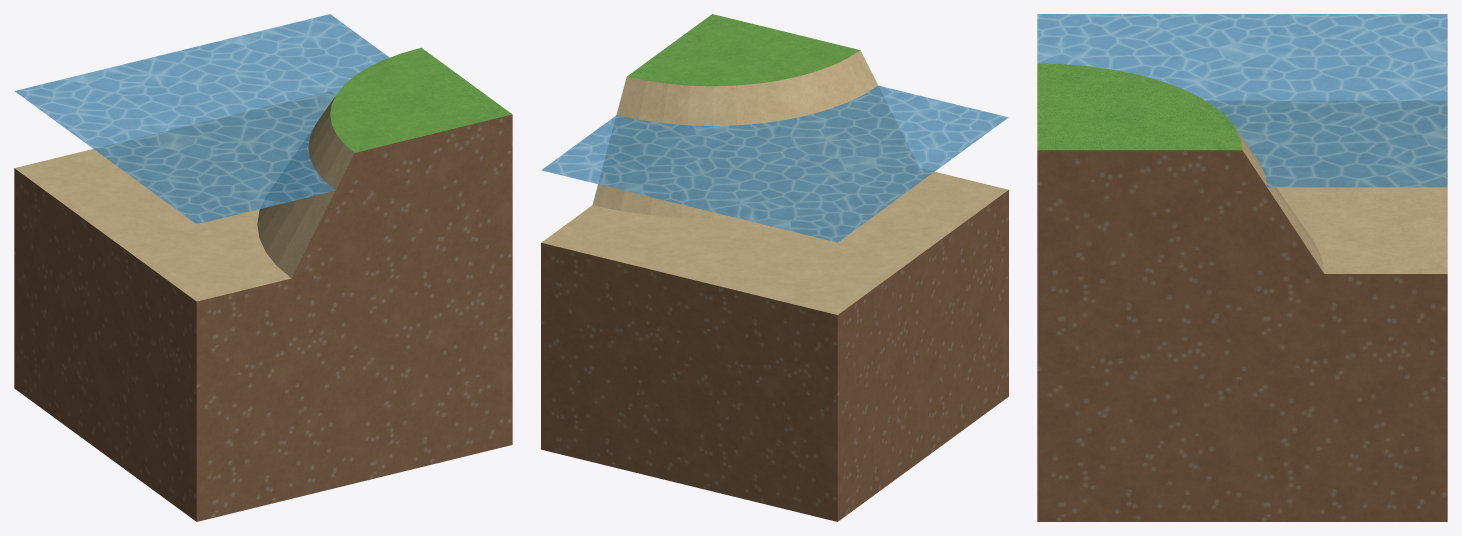
File: Water_InnerCorner_F.fbx
3 views of the same model, side by side, from view 1: azimuth 30°, elevation 25°; view 2: azimuth 150°, elevation 25°; view 3: azimuth 270°, elevation 25° (orthographic). The views are drawn at different scales.
Visible parts, largest first — view 1: Water_InnerCorner_F, Water_InnerCorner_F_Water; view 2: Water_InnerCorner_F, Water_InnerCorner_F_Water; view 3: Water_InnerCorner_F, Water_InnerCorner_F_Water.
Part boxes in pixels (x1,y1,x2,y2): Water_InnerCorner_F: (14, 47, 512, 521); Water_InnerCorner_F_Water: (15, 14, 389, 224); Water_InnerCorner_F: (541, 14, 1008, 521); Water_InnerCorner_F_Water: (541, 85, 1008, 242); Water_InnerCorner_F: (1037, 63, 1447, 521); Water_InnerCorner_F_Water: (1037, 14, 1447, 187).
Size of the model in its own units: 3 by 3 by 3.
Materials: 4 (4 with a texture image).
